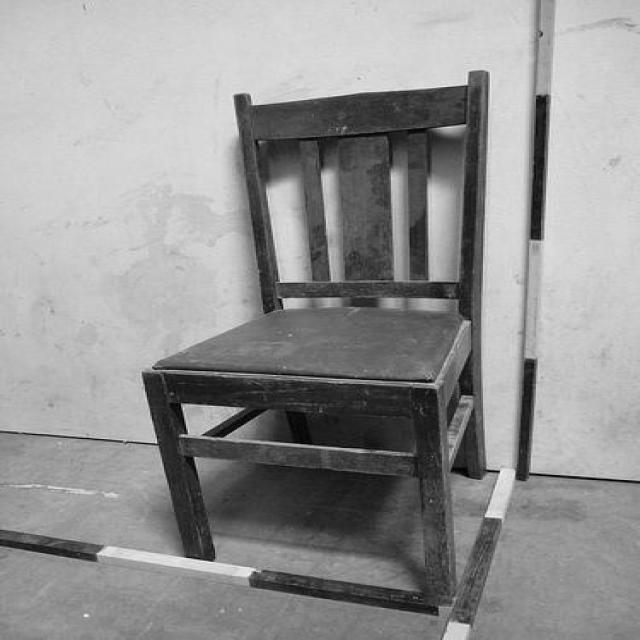chair: (145, 69, 494, 596)
